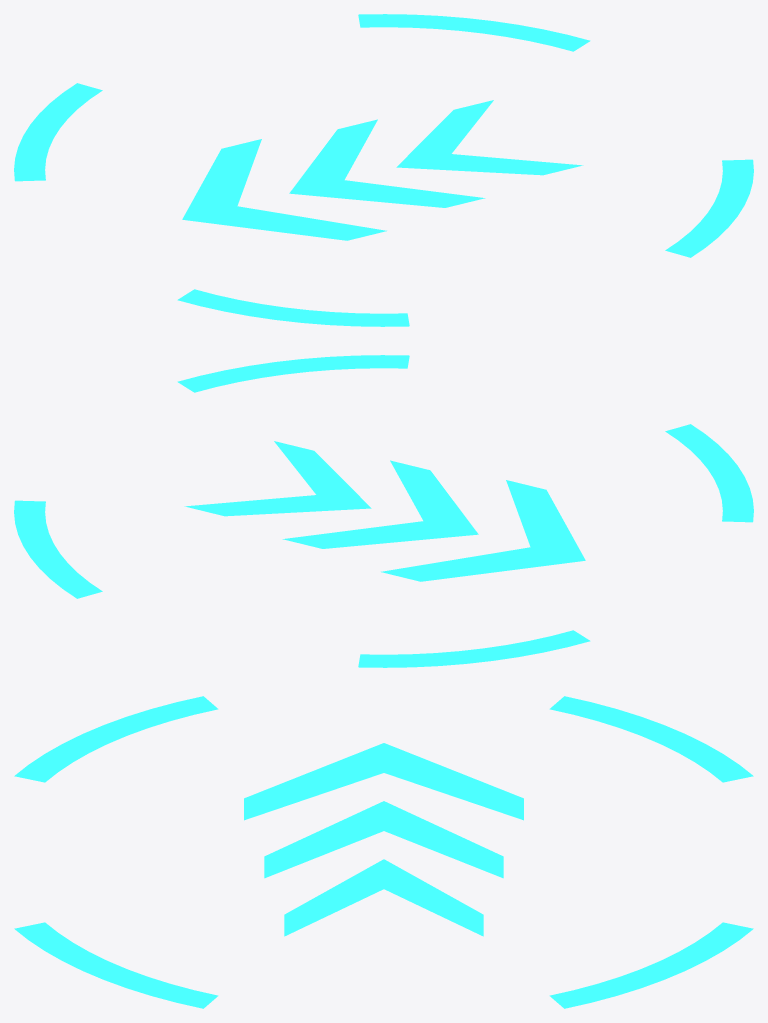
File: w6b-jump-pad-vector.glb
The picture shows the model from 3 angles, top to bottom: view 1: azimuth 30°, elevation 25°; view 2: azimuth 150°, elevation 25°; view 3: azimuth 270°, elevation 25°; orthographic projection. The views are drawn at different scales.
Parts seen in each view (by area): view 1: West flight chevron, West flight chevron.001, West flight chevron.002, Segmented vector rim, Segmented vector rim.002, Segmented vector rim.001, Segmented vector rim.003; view 2: West flight chevron, West flight chevron.001, West flight chevron.002, Segmented vector rim.001, Segmented vector rim.003, Segmented vector rim, Segmented vector rim.002; view 3: West flight chevron, West flight chevron.001, West flight chevron.002, Segmented vector rim, Segmented vector rim.001, Segmented vector rim.002, Segmented vector rim.003.
Part boxes in pixels (x1,y1,x2,y2): West flight chevron: [182, 139, 386, 240]; West flight chevron.001: [289, 119, 485, 207]; West flight chevron.002: [396, 100, 583, 175]; Segmented vector rim: [358, 14, 590, 51]; Segmented vector rim.002: [177, 289, 409, 326]; Segmented vector rim.001: [14, 83, 102, 181]; Segmented vector rim.003: [665, 159, 753, 257]; West flight chevron: [381, 480, 585, 581]; West flight chevron.001: [282, 460, 478, 548]; West flight chevron.002: [184, 441, 371, 516]; Segmented vector rim.001: [358, 630, 590, 667]; Segmented vector rim.003: [177, 355, 409, 392]; Segmented vector rim: [14, 500, 102, 598]; Segmented vector rim.002: [665, 424, 753, 522]; West flight chevron: [244, 743, 523, 820]; West flight chevron.001: [264, 801, 503, 878]; West flight chevron.002: [284, 859, 483, 936]; Segmented vector rim: [549, 922, 753, 1008]; Segmented vector rim.001: [549, 696, 753, 782]; Segmented vector rim.002: [14, 696, 218, 782]; Segmented vector rim.003: [14, 922, 218, 1008].
Size of the model in its own units: 1.56 by 0 by 1.56.
